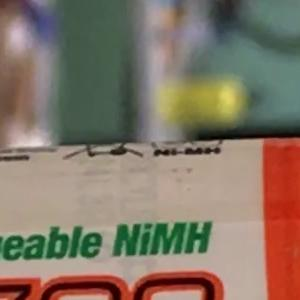NIMH: (103, 212, 222, 266)
